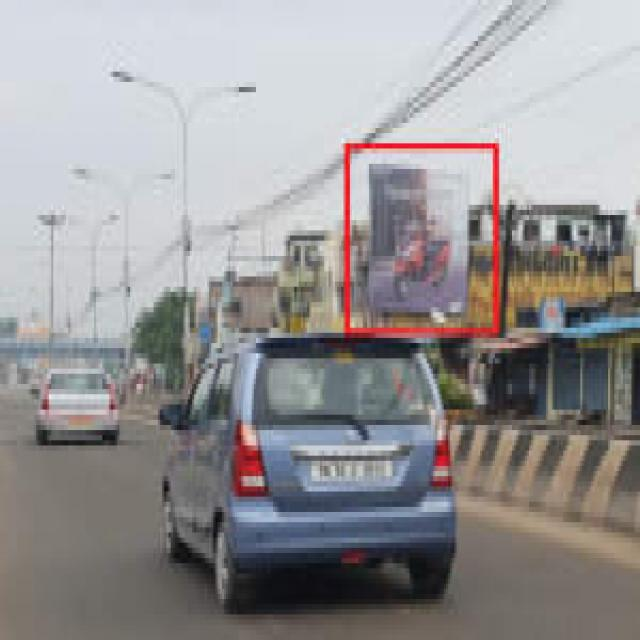Werbetafel frei: (364, 157, 472, 327)
